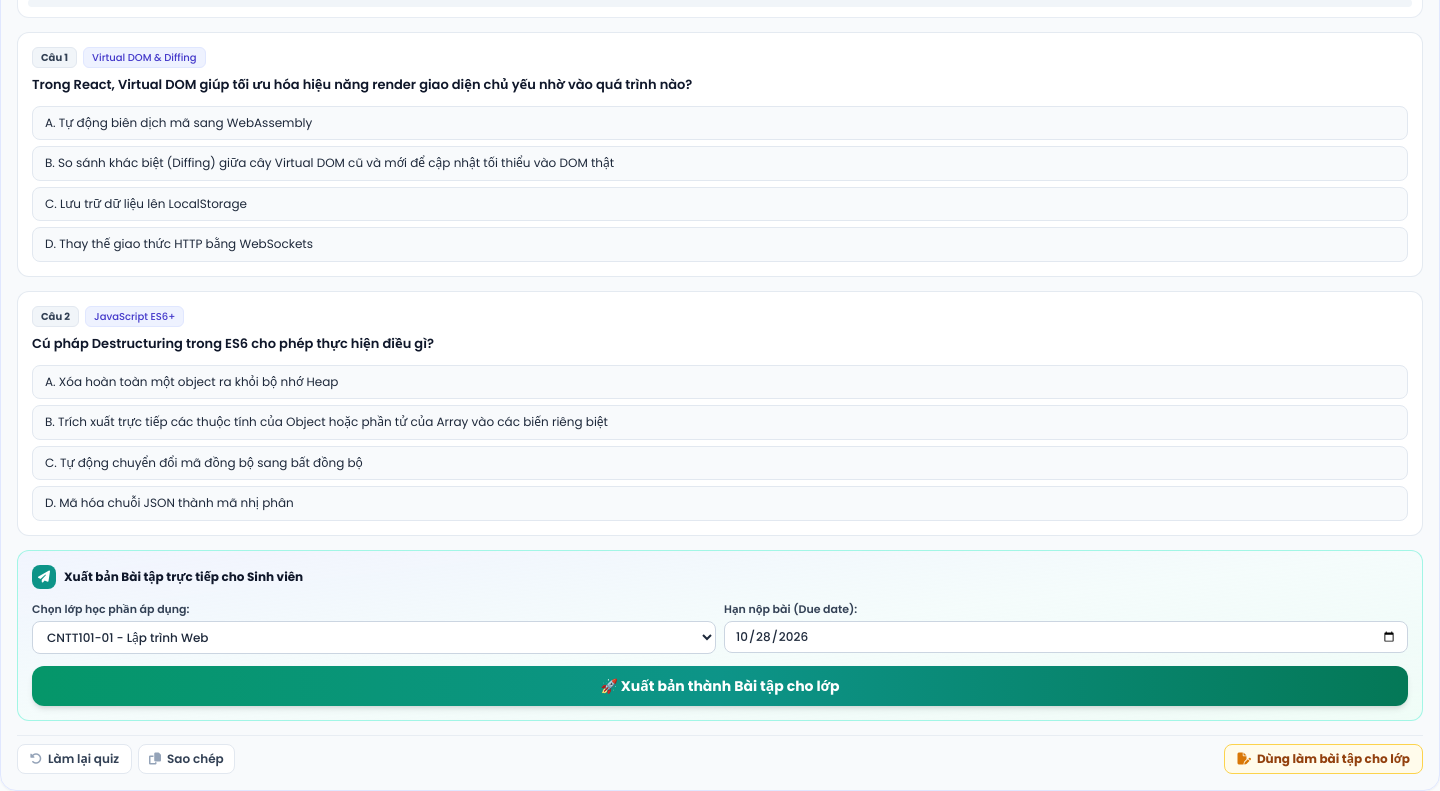
InteractiveQuizCard Component › directly publishes quiz to assignments collection via assignmentsApi.create, shows success toast, and displays confirmation banner
(page scrolled)
Click the button "🚀 Xuất bản thành Bài tập cho lớp" at (720, 686), box x1=32 y1=666 x2=1408 y2=706
(page scrolled)
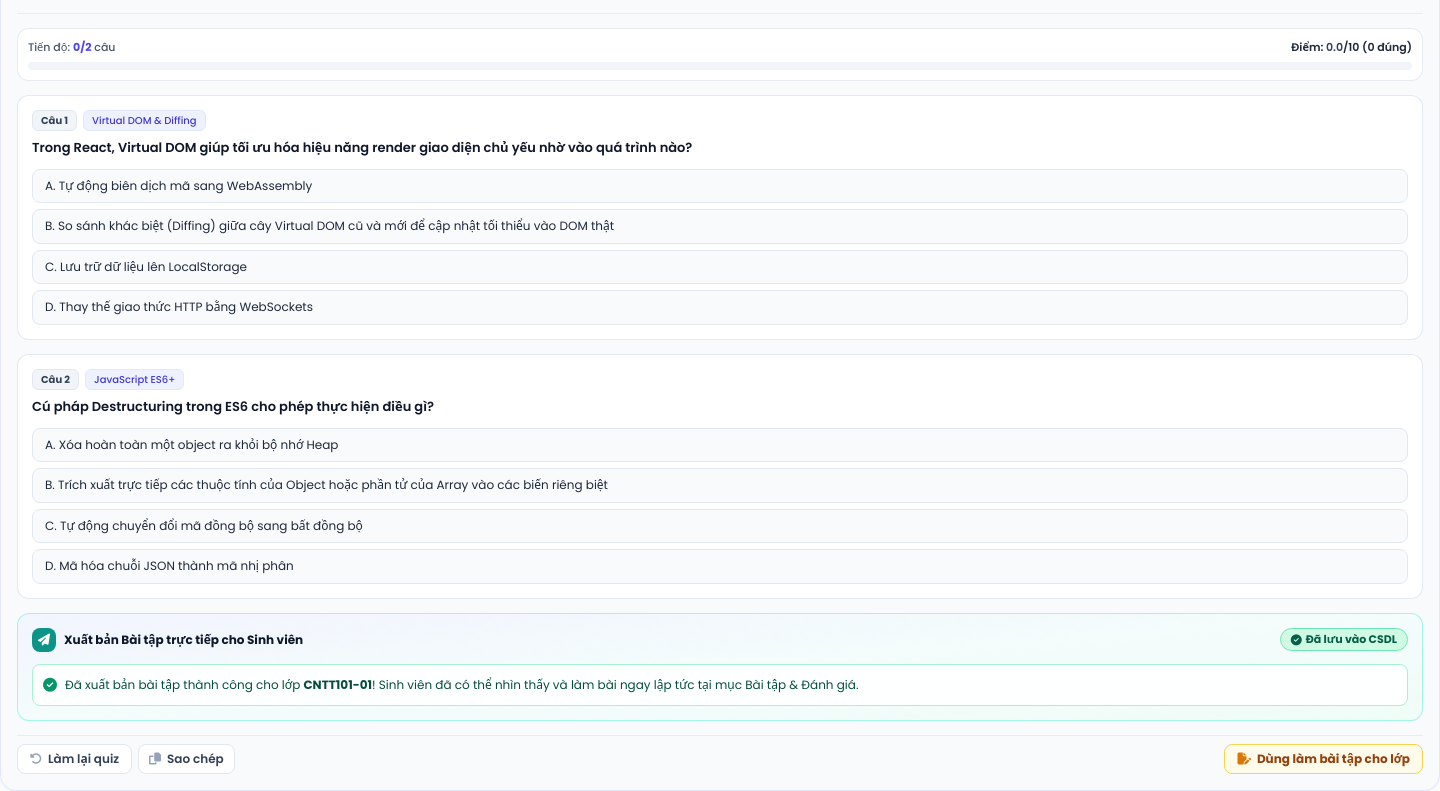
Now the text "Đã xuất bản bài tập thành công cho lớp" is shown, box x1=65 y1=676 x2=304 y2=693
